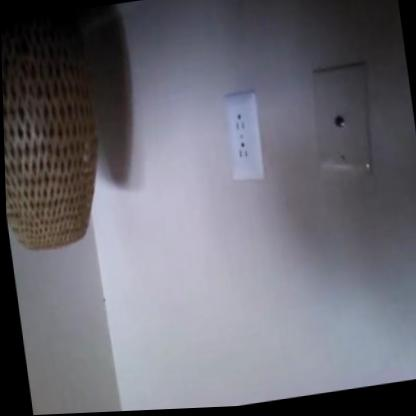OUTLET: (220, 90, 267, 186)
